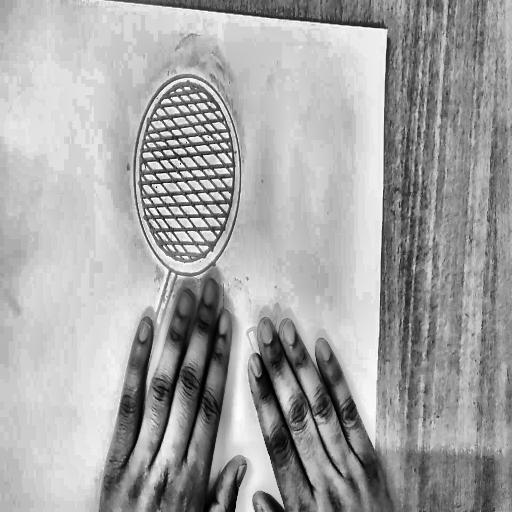badminton: (82, 58, 305, 512)
top_right: (383, 22, 392, 38)
